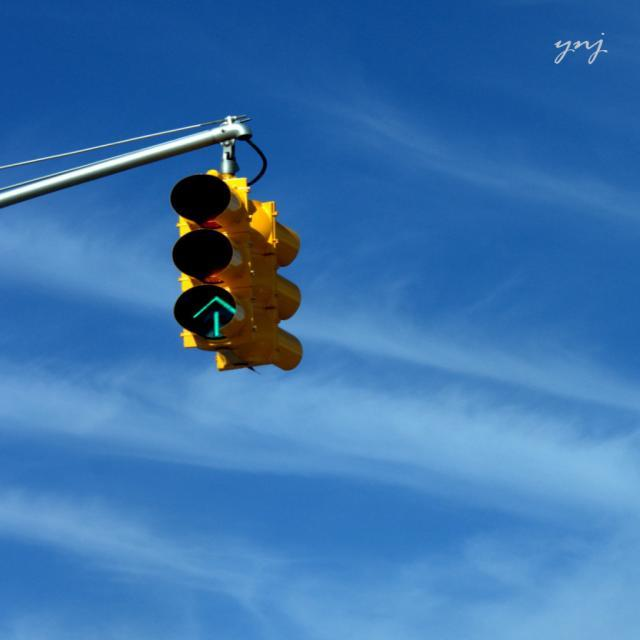traffic light: (170, 140, 304, 373)
